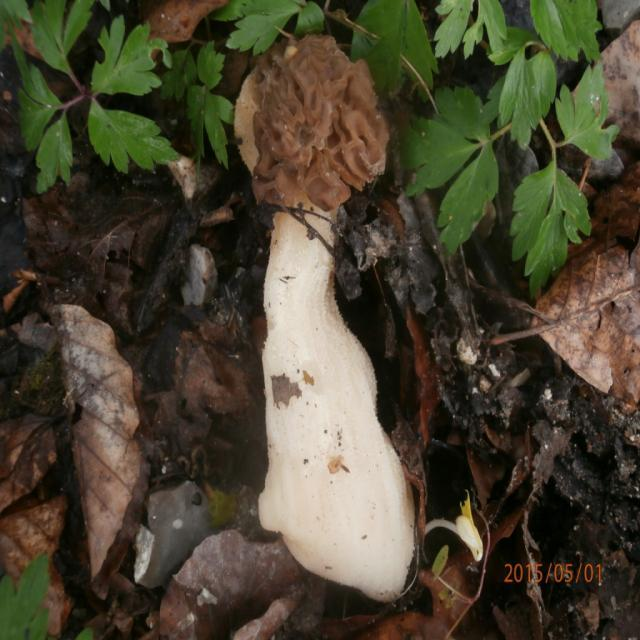Morchella esculenta: (232, 39, 417, 596)
